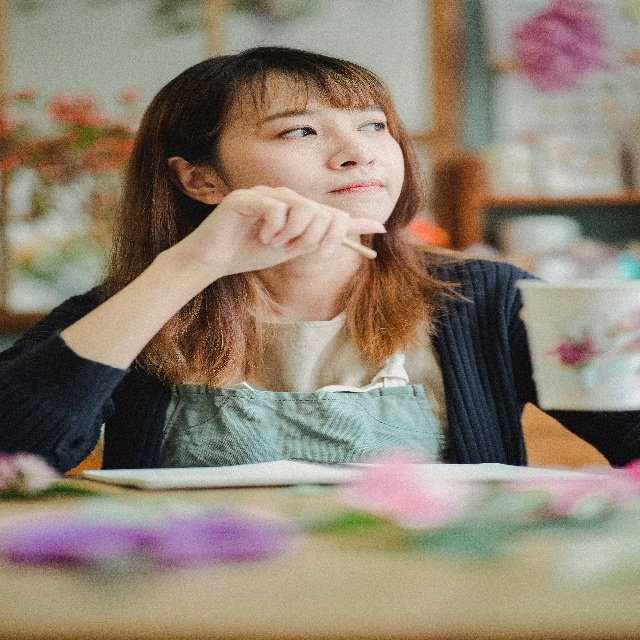Sin_guantes: (189, 190, 386, 291)
